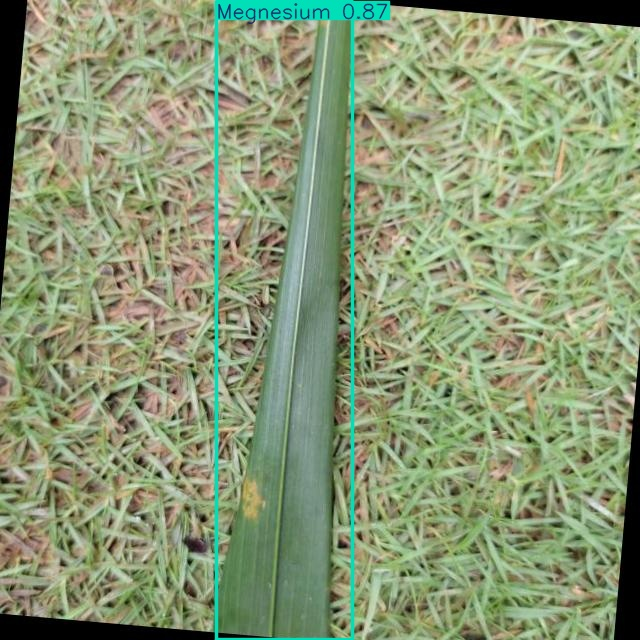Megnesium: (216, 2, 353, 639)
